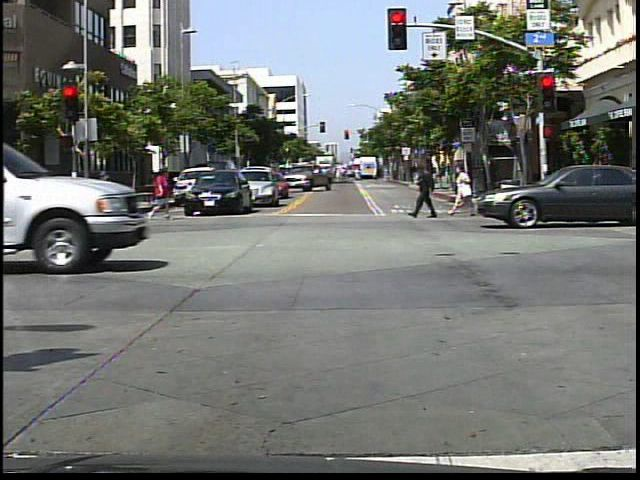person: (413, 158, 447, 222), (446, 159, 477, 222), (148, 165, 177, 223)
